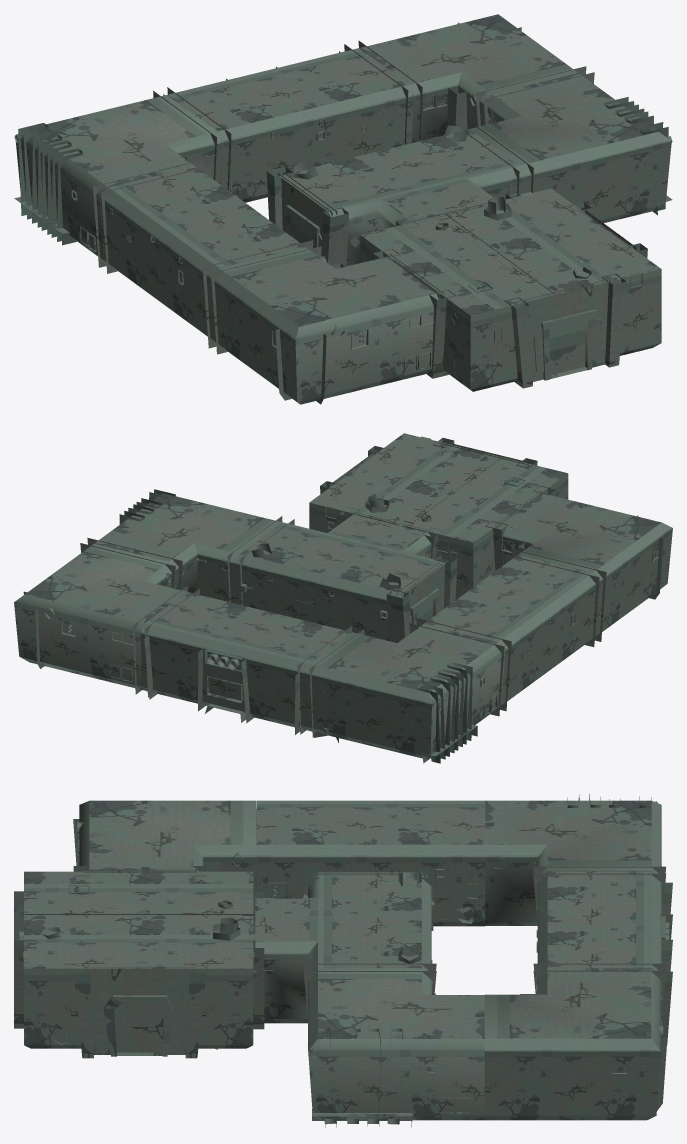
Rendered from Combined_Mesh_root_scene__19_0bed480f__zombies2_diffuse_08_b0bdab26_c1f257.obj.
The picture shows the model from 3 angles, top to bottom: view 1: azimuth 30°, elevation 25°; view 2: azimuth 150°, elevation 25°; view 3: azimuth 270°, elevation 25°; orthographic projection. The views are drawn at different scales.
Bounding box in the file's own units: 51.83 × 9.64 × 57.53.
123 materials, 123 textured.
